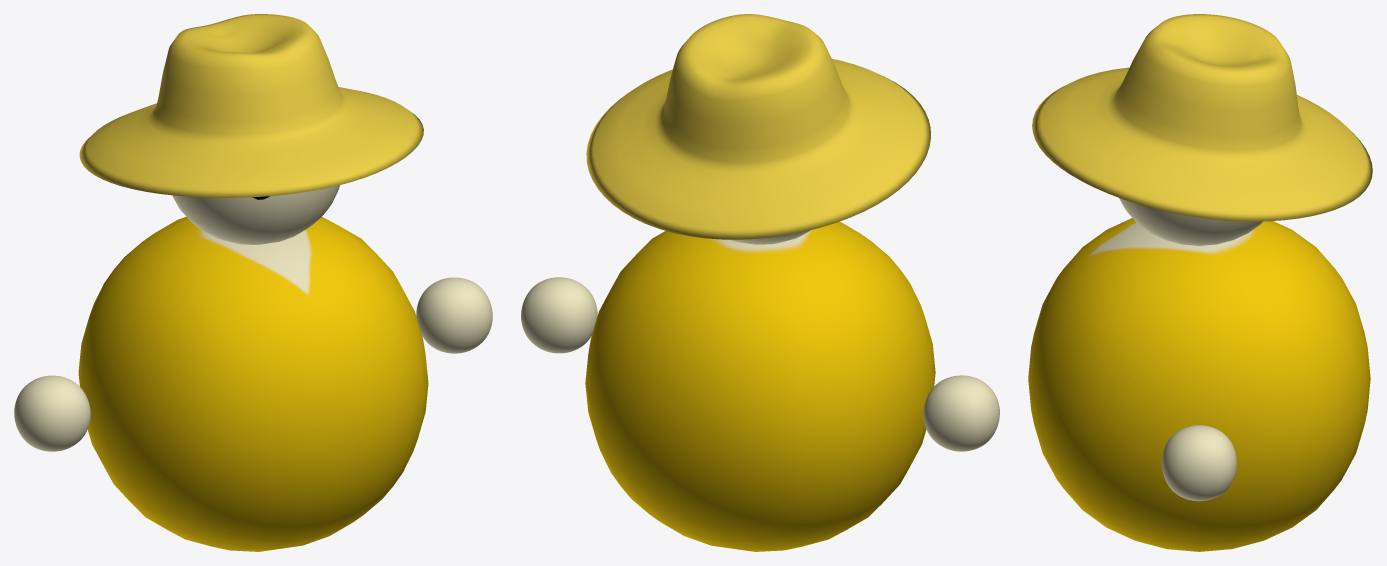
The model's file is Char New.fbx.
The picture shows the model from 3 angles, left to right: view 1: azimuth 30°, elevation 25°; view 2: azimuth 150°, elevation 25°; view 3: azimuth 270°, elevation 25°; orthographic projection.
Parts seen in each view (by area): view 1: Cube, Cylinder, Cube.001, Cube.002; view 2: Cube, Cylinder, Cube.001; view 3: Cube, Cylinder, Cube.001, Cube.002.
Boxes of the visible parts, left/top/right/bottom form: Cube: left=78, top=216, right=428, bottom=551; Cylinder: left=79, top=14, right=423, bottom=197; Cube.001: left=14, top=277, right=492, bottom=451; Cube.002: left=172, top=185, right=339, bottom=244; Cube: left=585, top=221, right=935, bottom=551; Cylinder: left=586, top=14, right=930, bottom=239; Cube.001: left=521, top=277, right=999, bottom=451; Cube: left=1028, top=218, right=1370, bottom=551; Cylinder: left=1032, top=14, right=1372, bottom=221; Cube.001: left=1162, top=425, right=1236, bottom=501; Cube.002: left=1119, top=198, right=1262, bottom=245.
Size of the model in its own units: 131 by 133 by 83.86.
5 materials, 1 textured.
